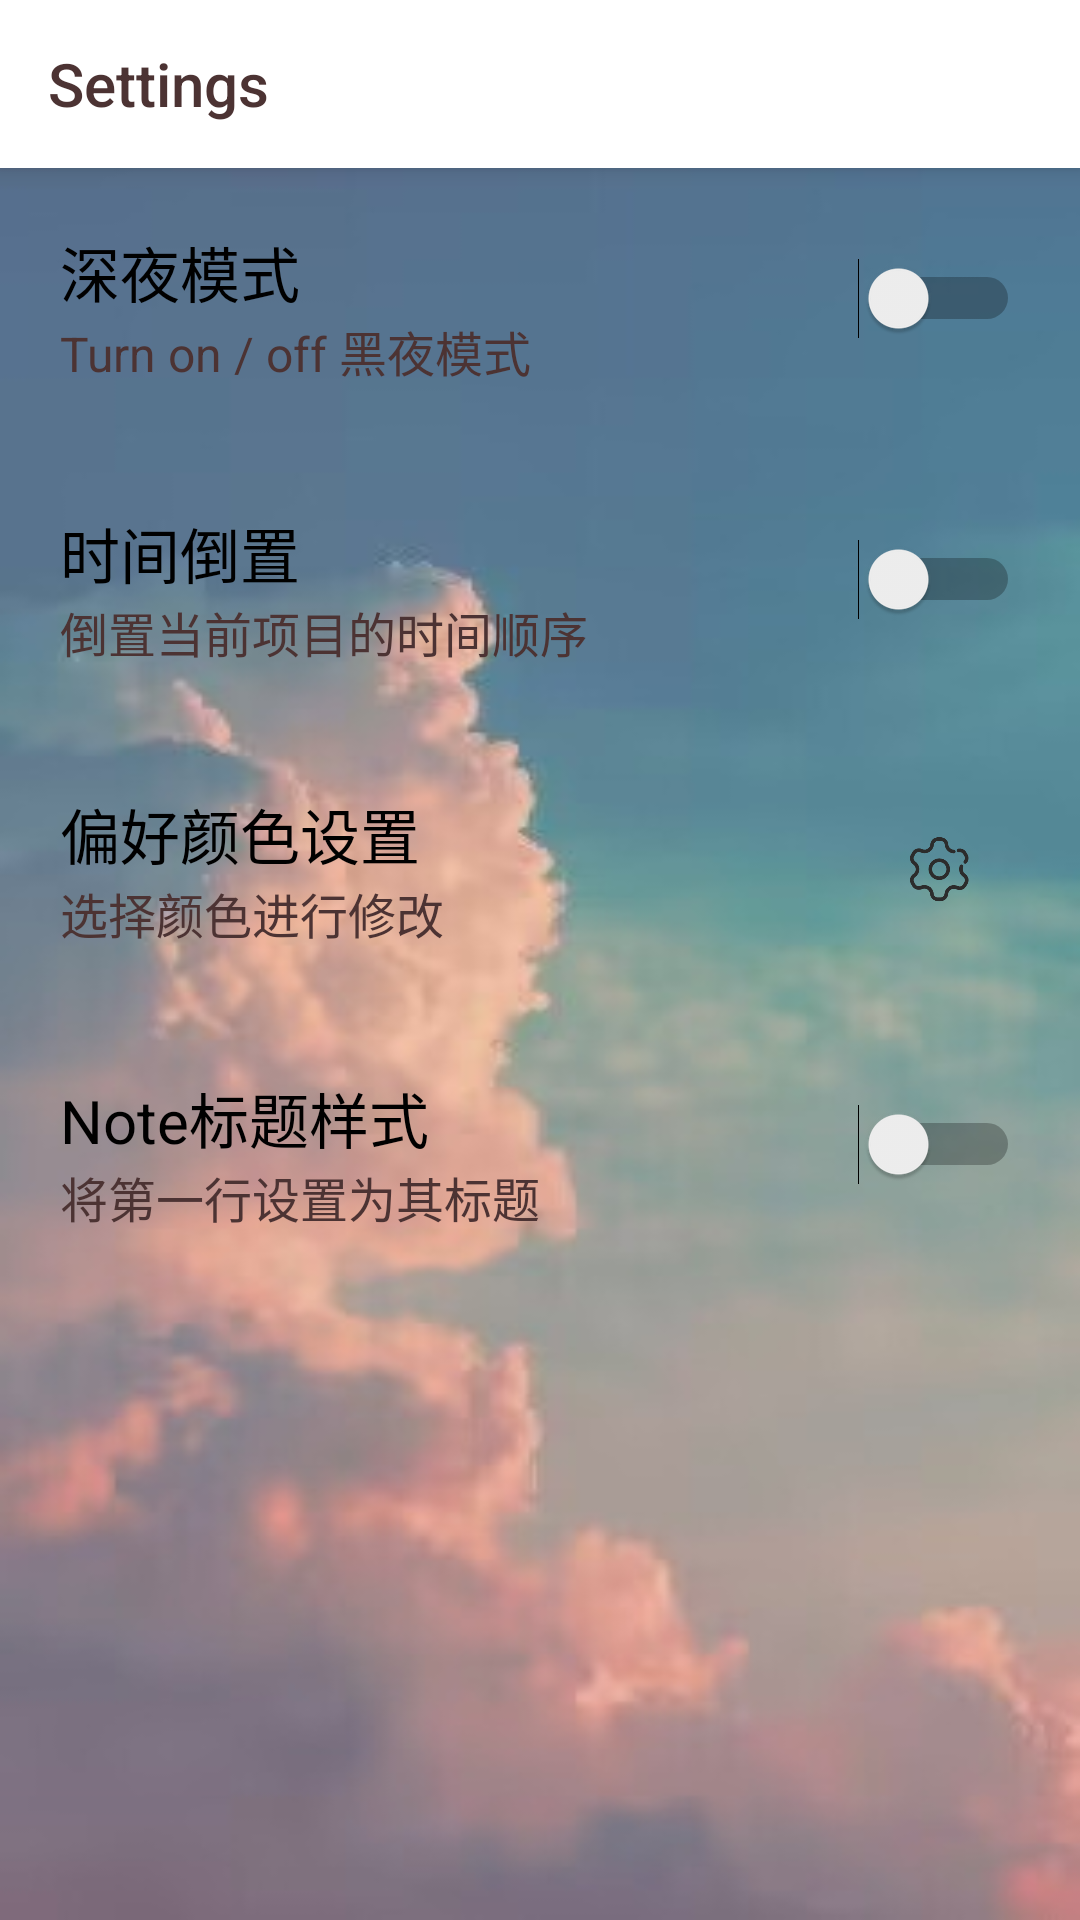

Locate icon controls on the screen. Image size 1080w x 1920h, boxes as Rect(x1, y1, x2, y2).
shezhi: Rect(903, 837, 975, 905)
